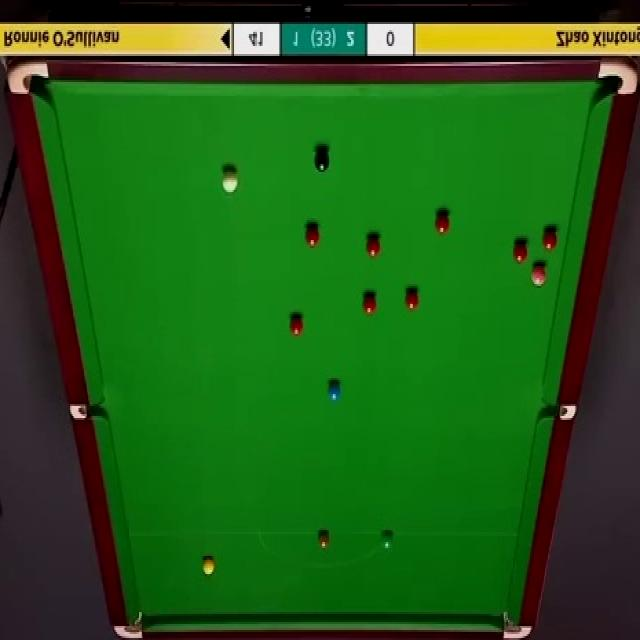black-ball: (314, 148, 331, 173)
blue-ball: (328, 379, 341, 401)
brown-ball: (318, 530, 330, 547)
green-ball: (382, 530, 393, 550)
pink-ball: (531, 262, 548, 287)
red-ball: (433, 210, 451, 235), (541, 227, 558, 253), (405, 288, 420, 313), (367, 233, 381, 258), (362, 291, 376, 315), (304, 227, 320, 247), (513, 241, 528, 262), (290, 316, 304, 338)
white-ball: (222, 165, 240, 193)
yellow-ball: (202, 554, 216, 574)
